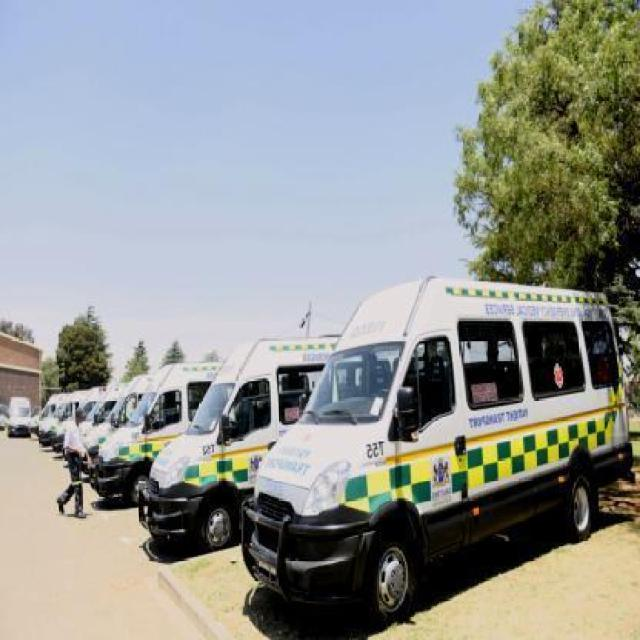emergency: (238, 274, 634, 626), (98, 356, 242, 544)
